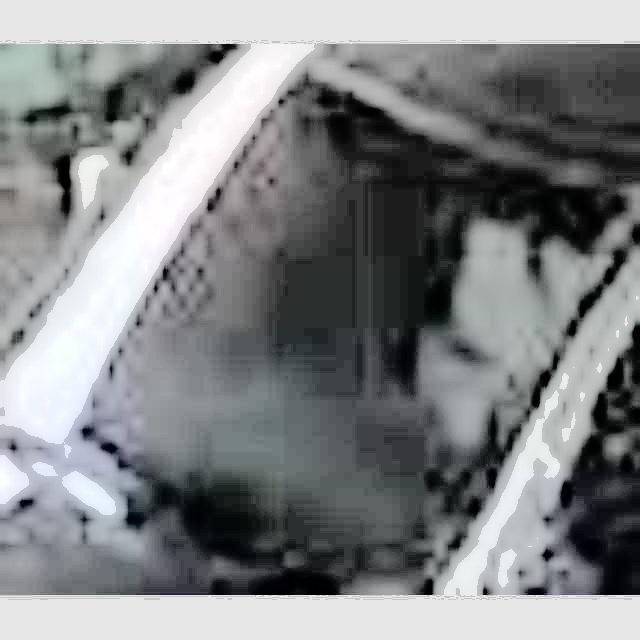pakai: (347, 186, 613, 417)
